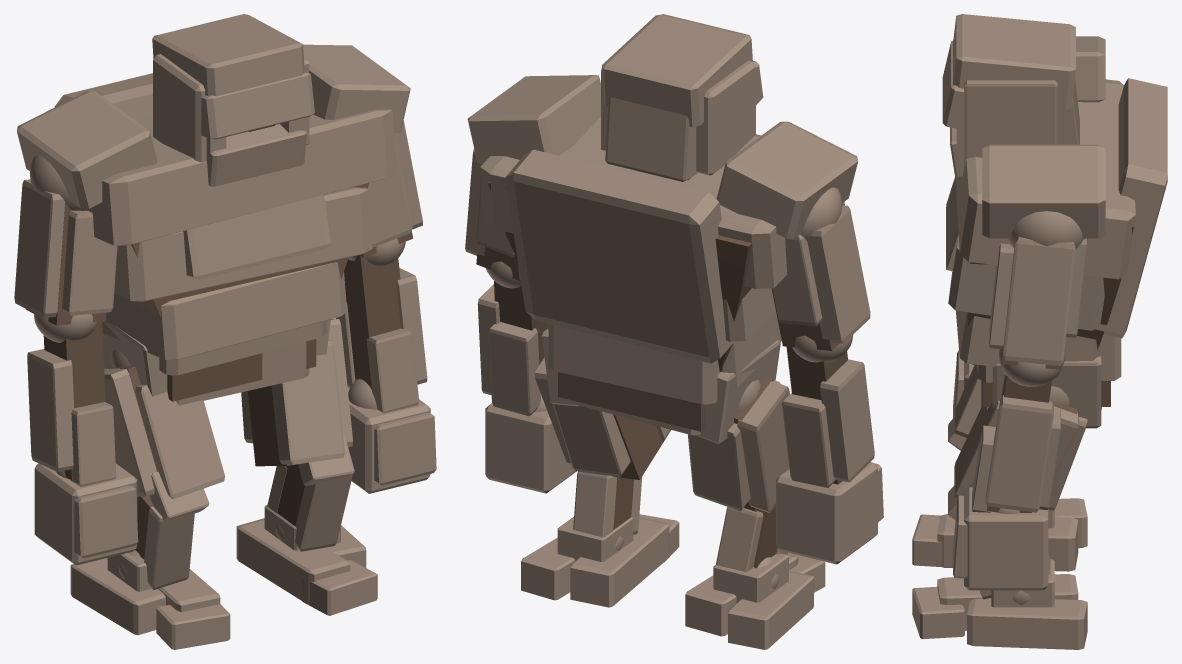
The model's file is golem.fbx.
3 renders of one model, left to right at view 1: azimuth 30°, elevation 25°; view 2: azimuth 150°, elevation 25°; view 3: azimuth 270°, elevation 25°, orthographic.
Parts seen in each view (by area): view 1: torso_plates, head_plates, thigh_R_plates, upperarm_R_plates, forearm_R_plates, foot_R_plates, thigh_L_plates, foot_L_plates, fist_R_plates, fist_L_plates, pelvis_plates, forearm_L_plates (+11 smaller); view 2: torso_plates, head_plates, pelvis_plates, upperarm_R_plates, foot_L_plates, forearm_R_plates, foot_R_plates, thigh_R_plates, fist_R_plates, forearm_L_plates, fist_L_plates, thigh_L_plates (+12 smaller); view 3: torso_plates, head_plates, upperarm_L_plates, foot_L_plates, forearm_L_plates, fist_L_plates, foot_R_plates, pelvis_plates, thigh_L_plates, thigh_R_plates, core_torso, core_forearm_L (+2 smaller).
Part boxes in pixels (<box>): torso_plates: <box>17,44,410,360</box>; head_plates: <box>152,14,314,186</box>; thigh_R_plates: <box>104,349,224,521</box>; upperarm_R_plates: <box>14,155,117,317</box>; forearm_R_plates: <box>27,313,116,487</box>; foot_R_plates: <box>70,550,230,649</box>; thigh_L_plates: <box>241,319,354,485</box>; foot_L_plates: <box>236,505,377,615</box>; fist_R_plates: <box>34,463,138,565</box>; fist_L_plates: <box>347,379,436,493</box>; pelvis_plates: <box>102,319,330,405</box>; forearm_L_plates: <box>335,238,427,413</box>; torso_plates: <box>467,75,858,388</box>; head_plates: <box>601,14,763,181</box>; pelvis_plates: <box>542,324,780,444</box>; upperarm_R_plates: <box>772,187,870,343</box>; foot_L_plates: <box>521,514,679,607</box>; forearm_R_plates: <box>782,335,874,487</box>; foot_R_plates: <box>685,552,825,649</box>; thigh_R_plates: <box>687,380,789,512</box>; fist_R_plates: <box>776,462,883,564</box>; forearm_L_plates: <box>477,261,540,416</box>; fist_L_plates: <box>485,394,576,493</box>; thigh_L_plates: <box>534,357,670,476</box>; torso_plates: <box>946,36,1167,366</box>; head_plates: <box>942,14,1079,176</box>; upperarm_L_plates: <box>989,211,1087,365</box>; foot_L_plates: <box>912,559,1087,649</box>; forearm_L_plates: <box>972,349,1064,512</box>; fist_L_plates: <box>953,487,1048,590</box>; foot_R_plates: <box>912,498,1087,571</box>; pelvis_plates: <box>977,334,1121,428</box>; thigh_L_plates: <box>948,386,1087,519</box>; thigh_R_plates: <box>948,364,981,450</box>; core_torso: <box>967,226,1133,349</box>; core_forearm_L: <box>986,374,1052,512</box>.
Bounding box in the file's own units: 2.91 × 4.07 × 1.7.
